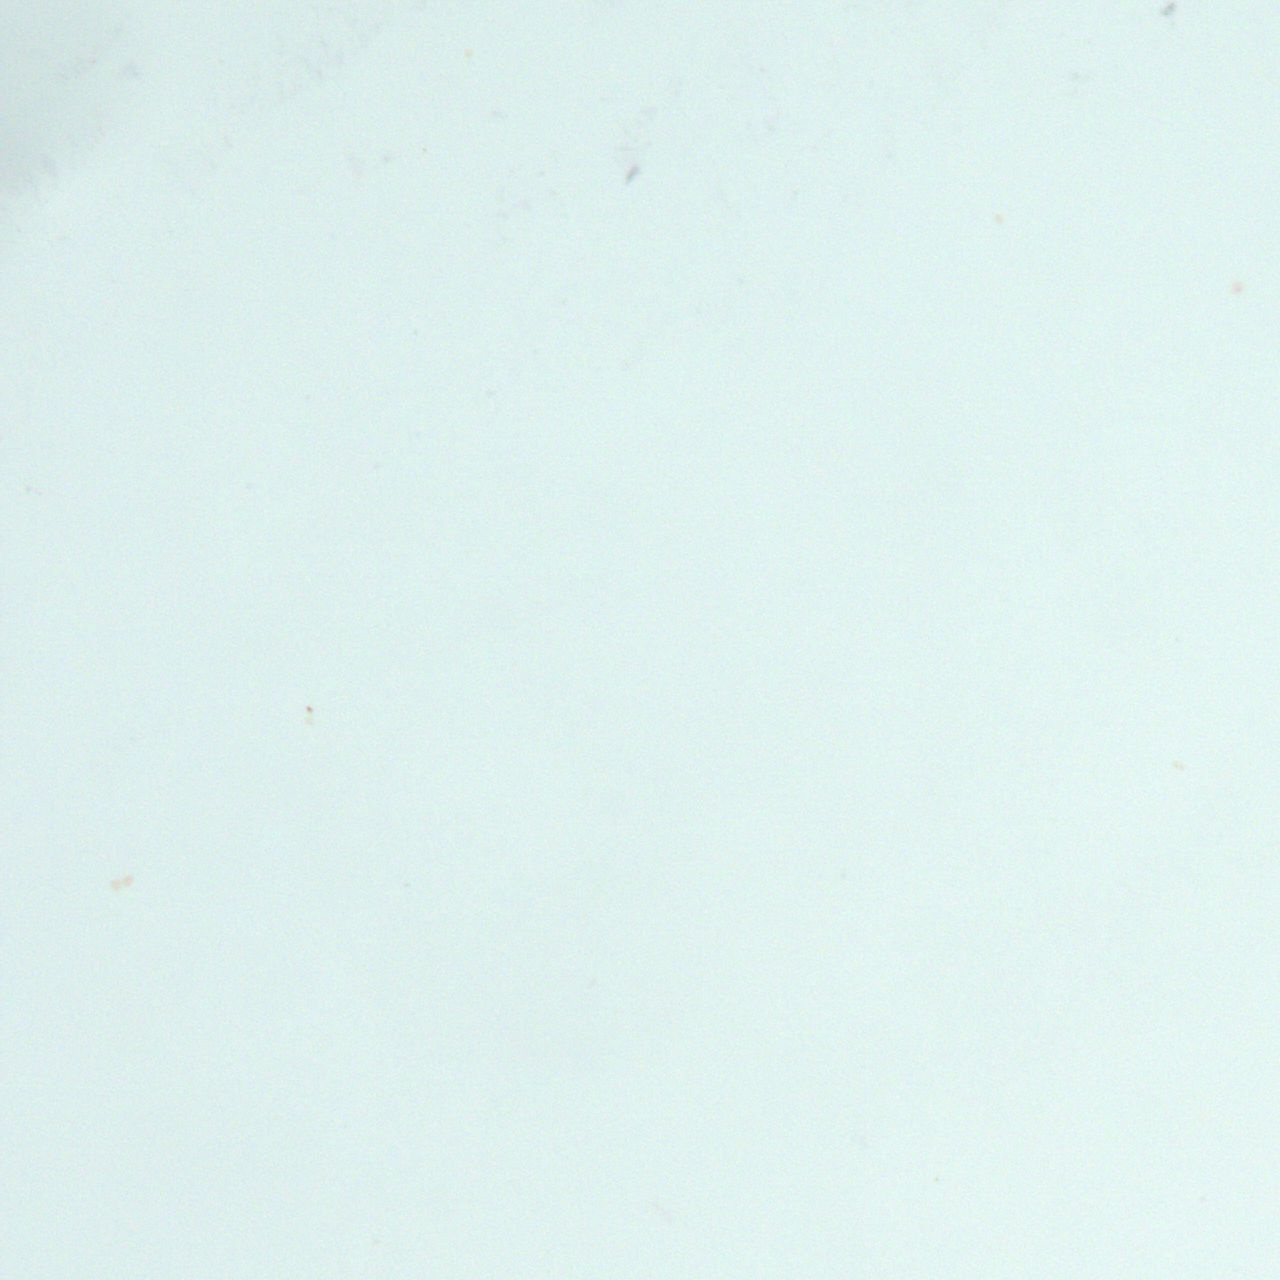dust: (304, 704, 314, 723), (110, 878, 120, 893), (1232, 280, 1242, 292), (123, 874, 132, 887), (995, 212, 1003, 223)
